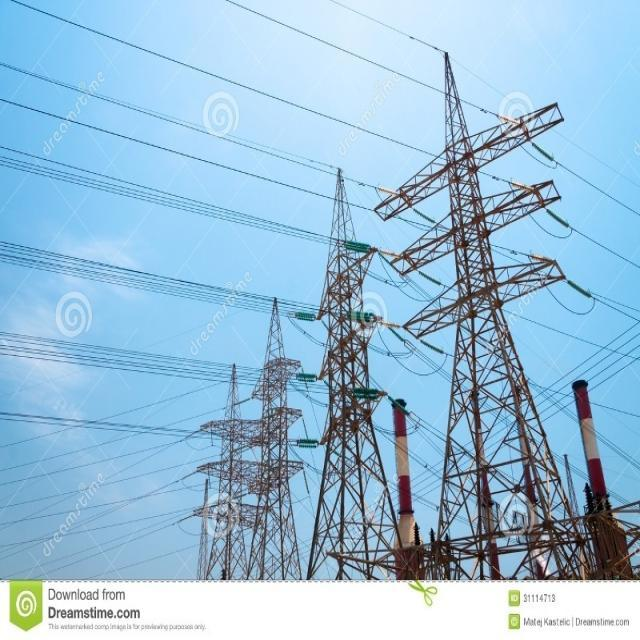non-critical vegetation: (380, 39, 588, 568), (300, 153, 387, 572), (246, 292, 306, 572)
